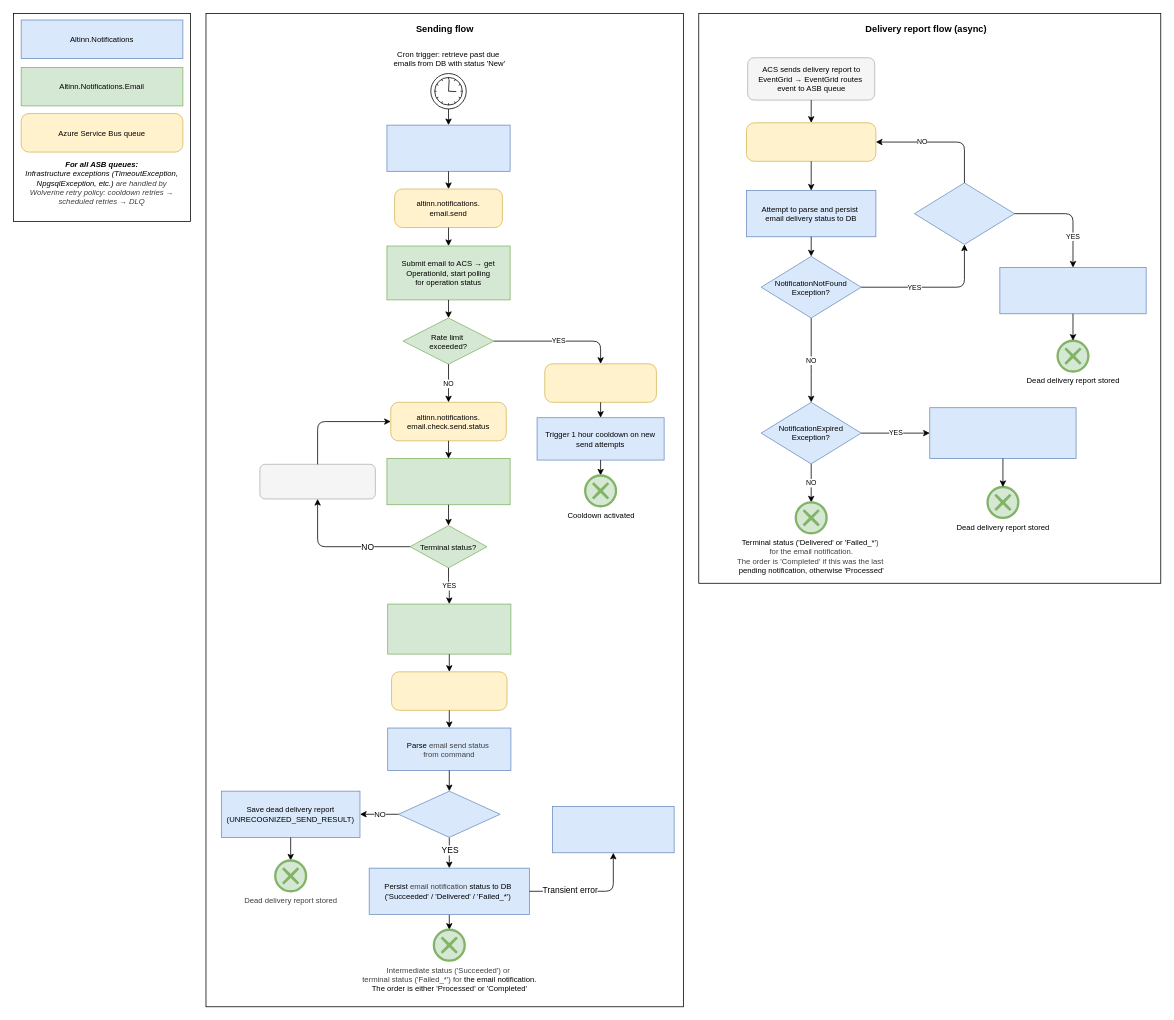
Some shapes in this 1174 by 1020 pixel diagram are drawn without their labels. The centre of each missing label's shape, as x and y in pixels:
altinn.notifications. email.deliveryreports: the point at 811,141
altinn.notifications. email.send.ratelimit: the point at 600,382
altinn.notifications. email.send.result: the point at 449,690
Dispatch send result to API (Succeeded / Failed / Bounced / etc.): the point at 449,628
Poll ACS operation status - check while still 'Sending': the point at 448,481
Reset notification status back to 'New' to be retried: the point at 613,829
Retries exhausted?: the point at 964,213
Save dead delivery report (NOTIFICATION_EXPIRED): the point at 1002,433
Save dead delivery report (RETRY_THRESHOLD_EXCEEDED): the point at 1072,290
Schedule re-check (8s delay): the point at 317,481
Sending status set to 'Sending' in DB & published to ASB queue: the point at 448,147
Valid EmailSendResult?: the point at 449,813
